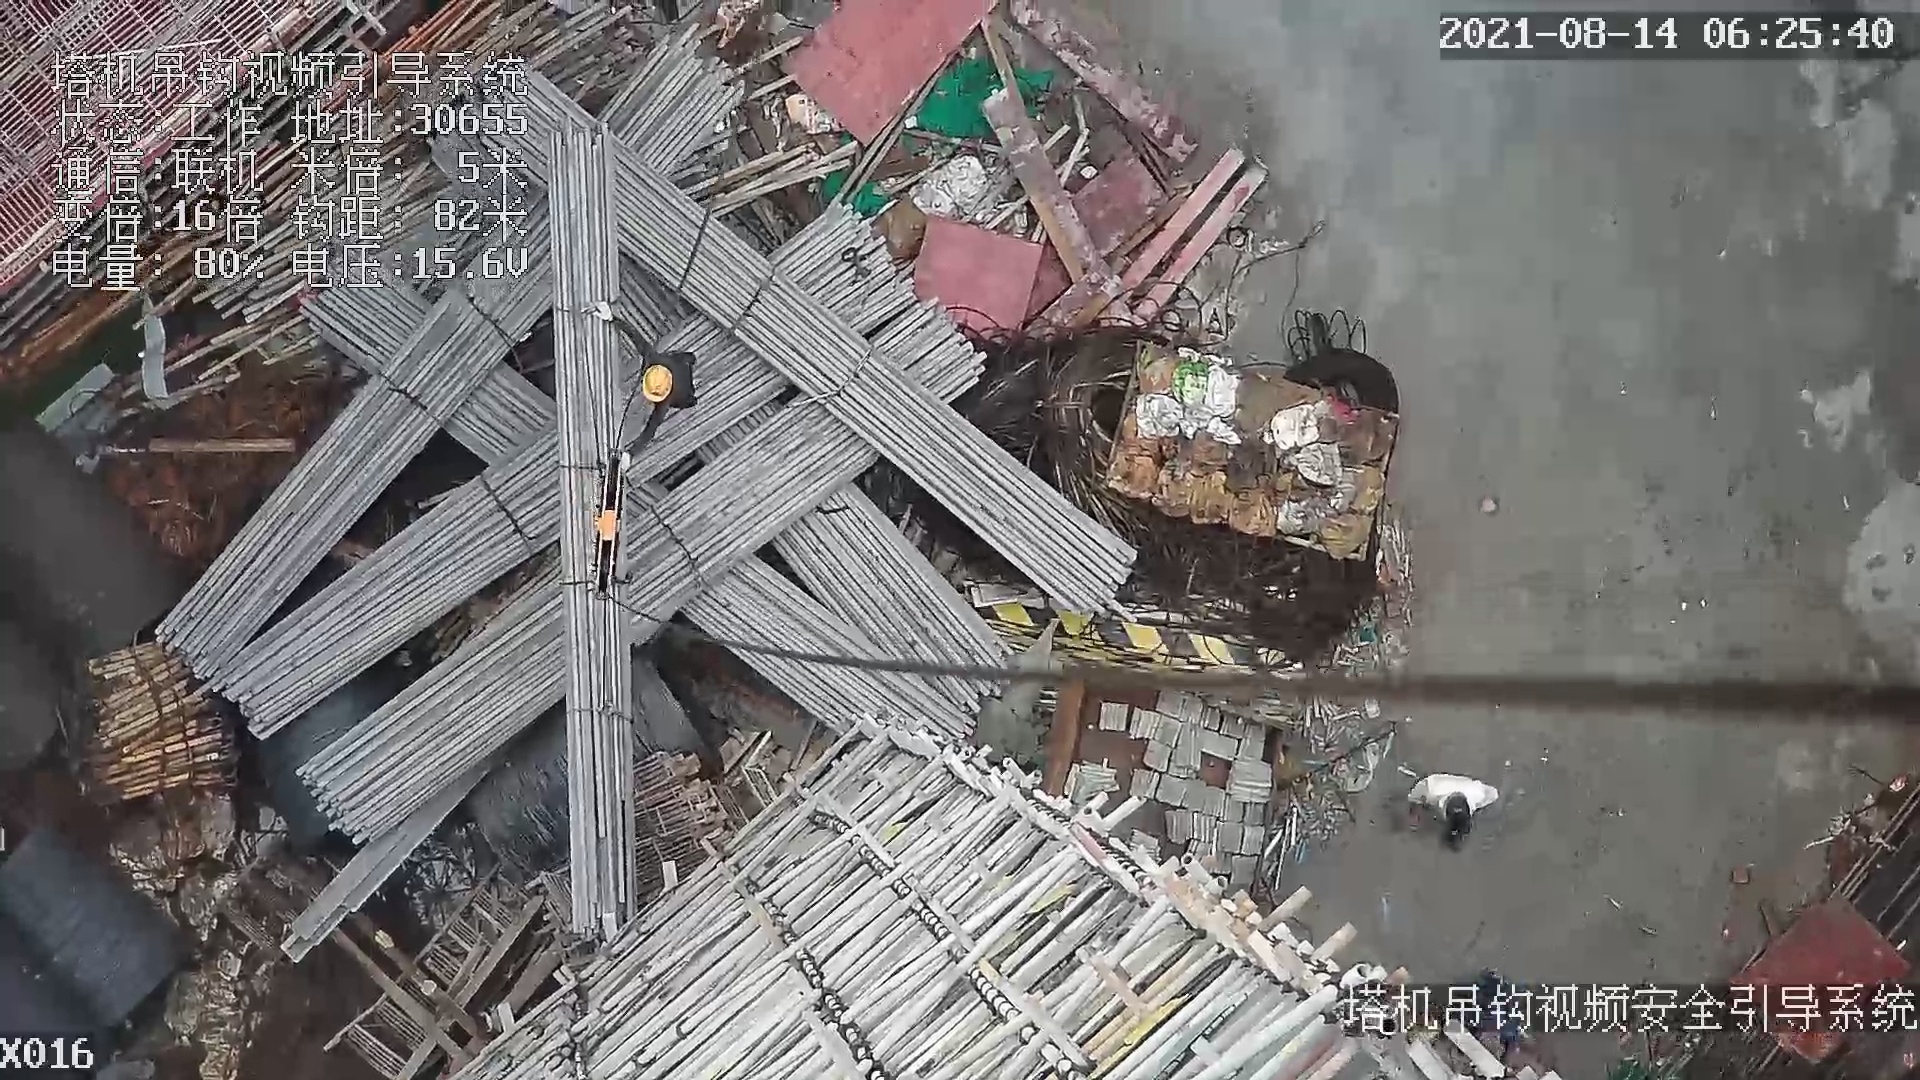helmet: (636, 357, 674, 408)
hook: (586, 446, 628, 609)
person: (588, 295, 701, 449), (1414, 768, 1497, 836)
